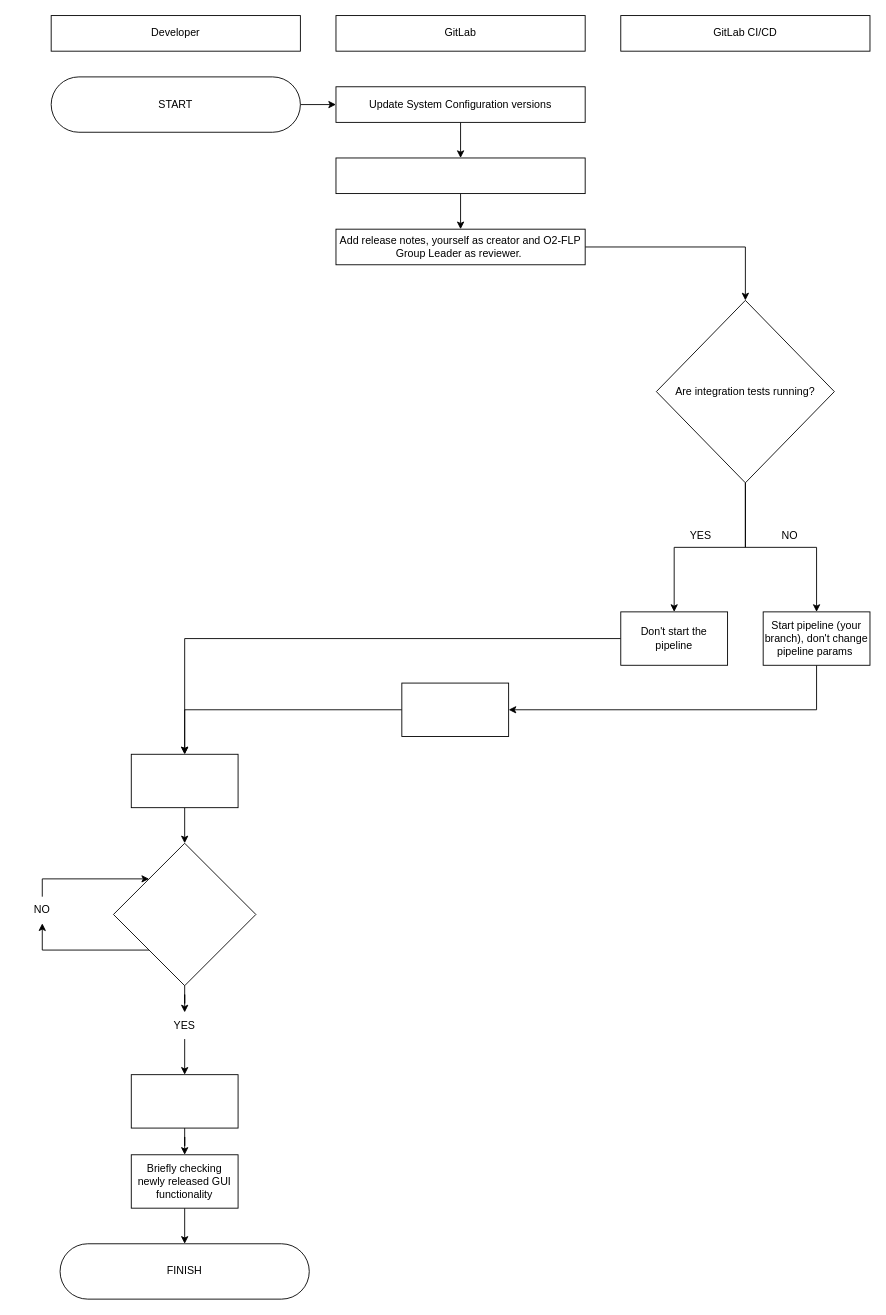
Image size: 886x1315. Some labels were removed from this diagram. The shapes that lost their labels are listed below. From the top down, each one's centre as x and y in pixels, then its label:
[460,175]: Fill in branch name and create PR
[455,709]: In GitLab release, enable auto-merge
[184,780]: Inform O2 group leader about release and if pipeline was started or not
[184,914]: SRC green light for SW verification granted
[184,1101]: Check for GUIs if version number has been updated
